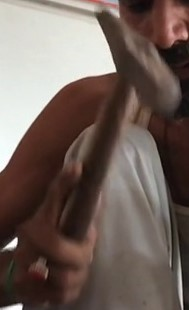hammer: (62, 3, 183, 293)
